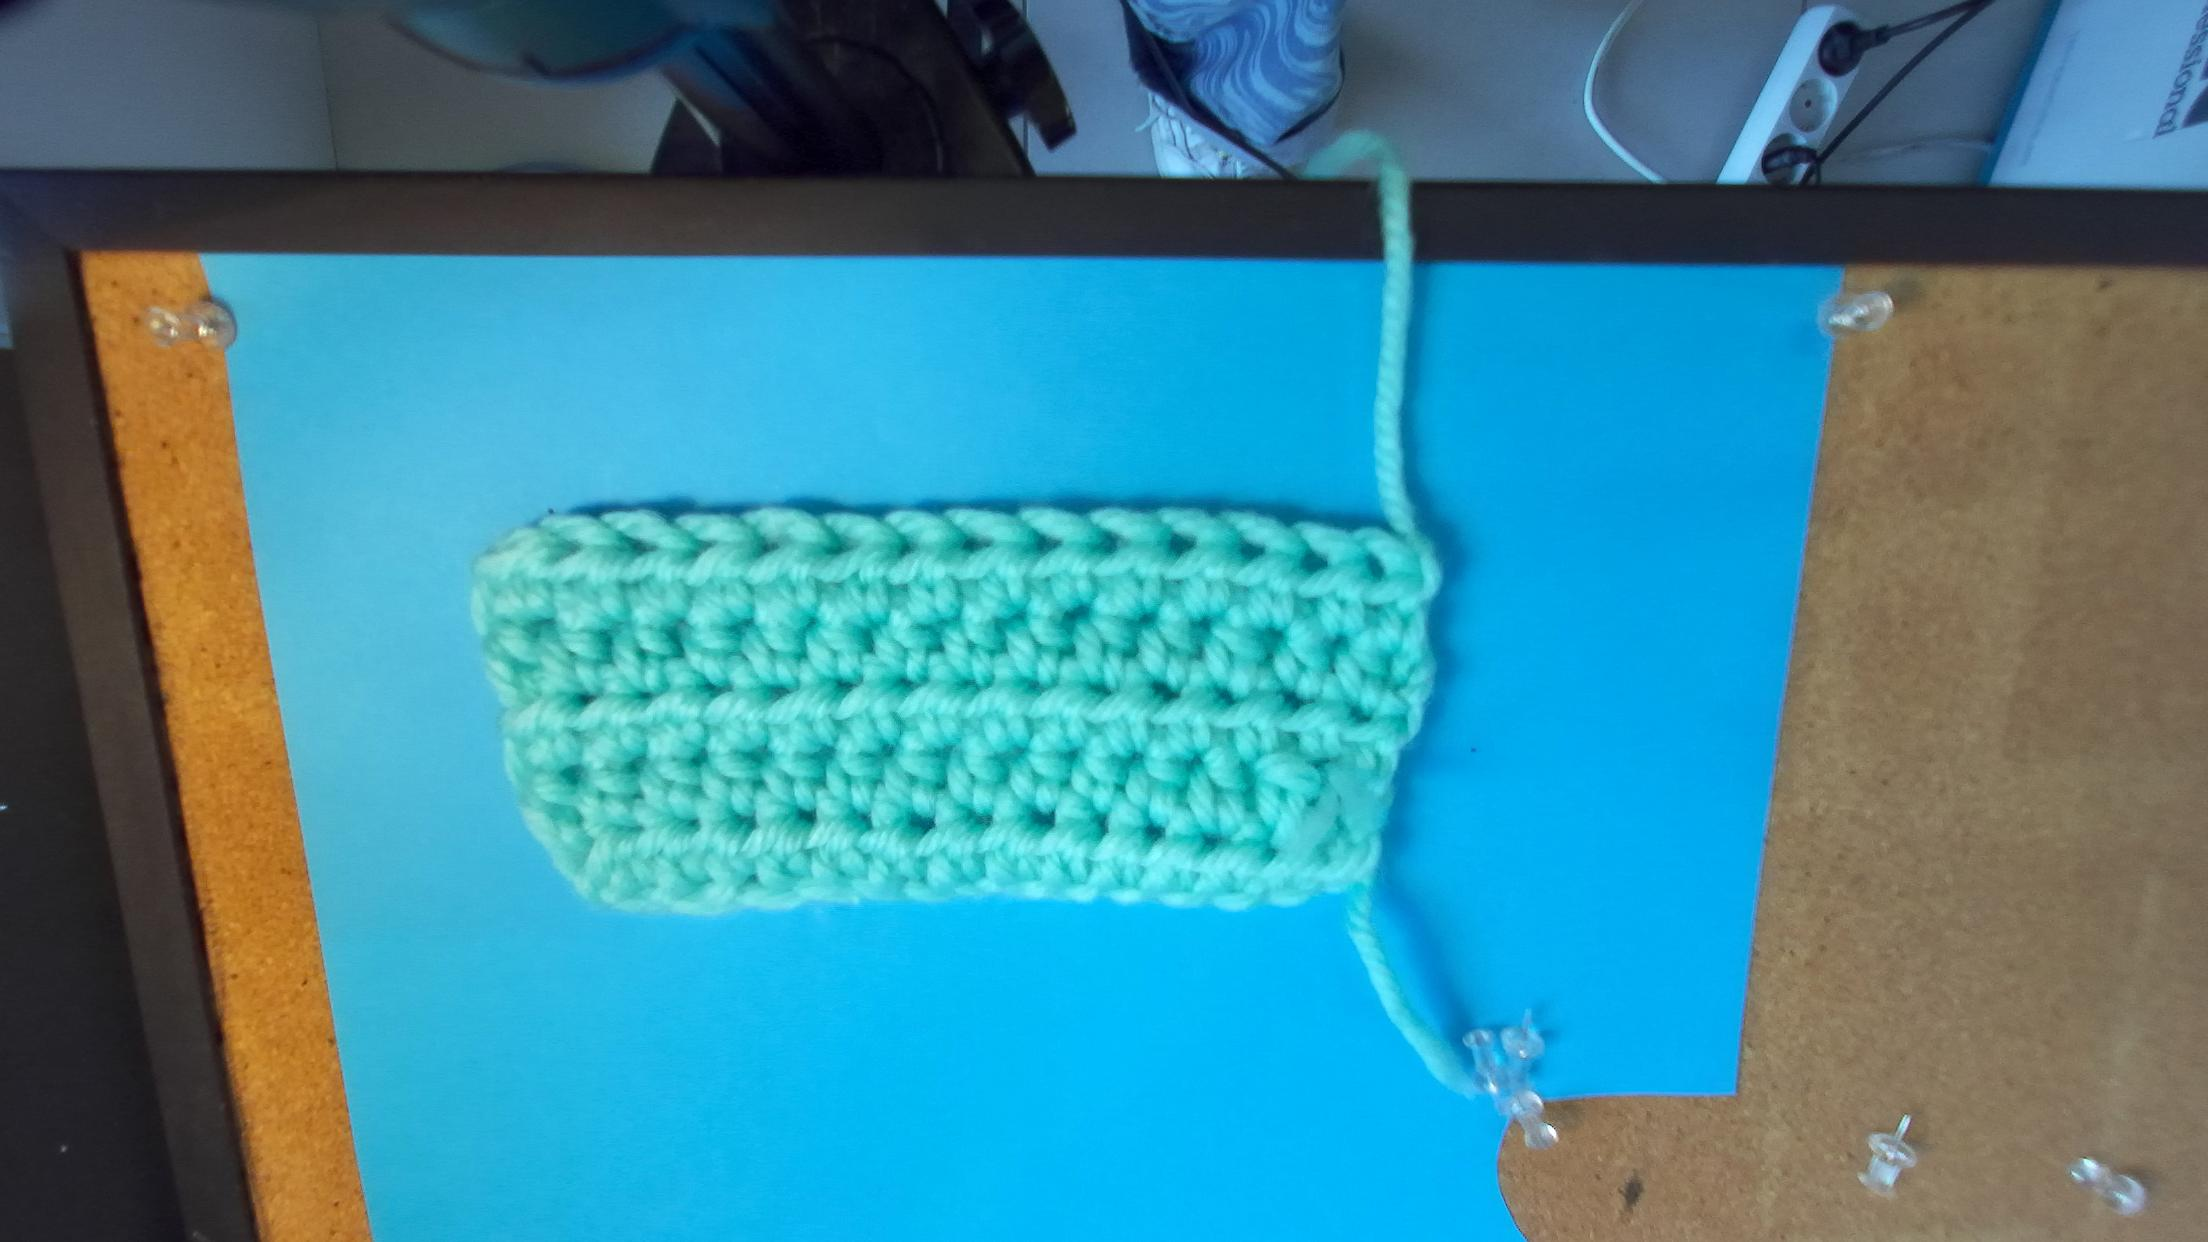hole: (616, 532, 658, 563), (544, 535, 587, 564), (678, 532, 719, 561), (748, 529, 784, 558), (819, 532, 860, 557), (1298, 543, 1330, 573), (1030, 532, 1062, 557), (1169, 531, 1197, 555), (1237, 537, 1265, 561), (961, 535, 993, 555), (1099, 531, 1122, 555), (1366, 550, 1385, 581), (896, 535, 919, 558)
swatch: (466, 500, 1447, 921)
